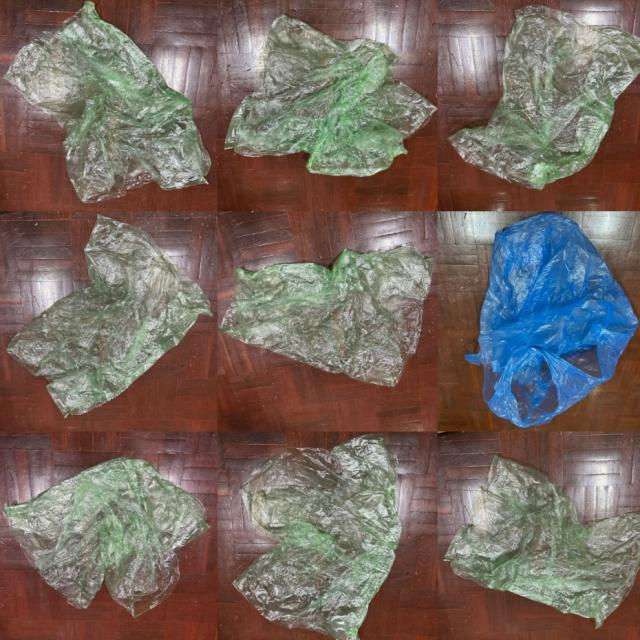plastik: (5, 1, 210, 203), (8, 216, 211, 417), (466, 213, 639, 427), (449, 6, 640, 190), (233, 436, 401, 640), (226, 15, 436, 177), (445, 456, 640, 627), (4, 458, 209, 617), (219, 247, 433, 386)
